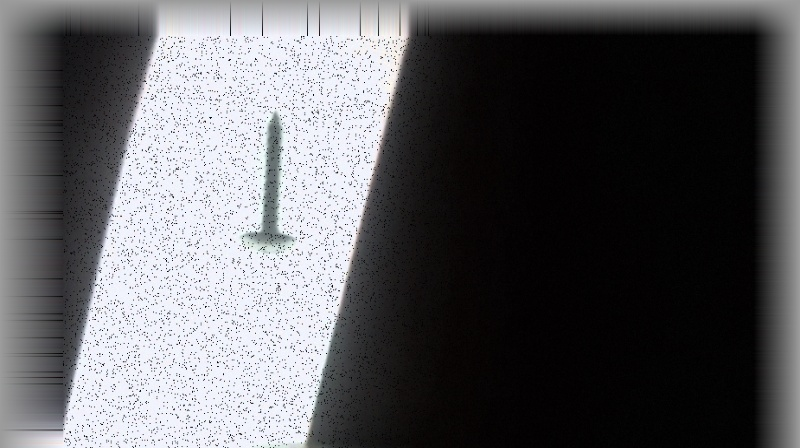S003: (238, 108, 300, 259)
